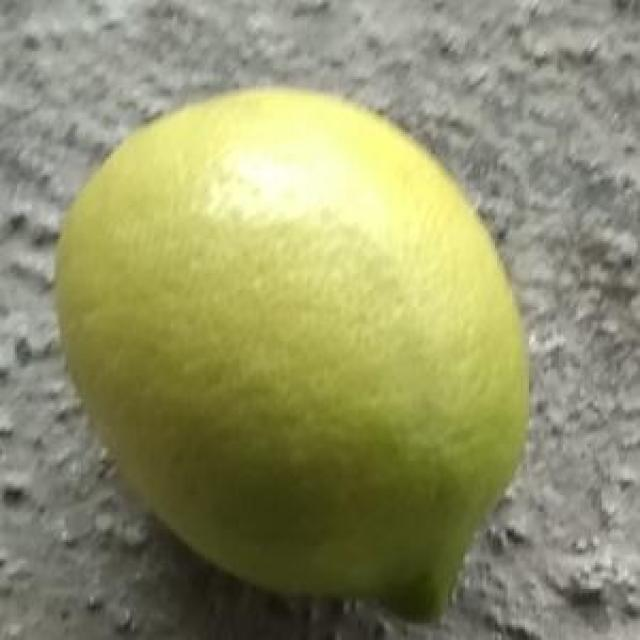lemon: (58, 81, 534, 630)
